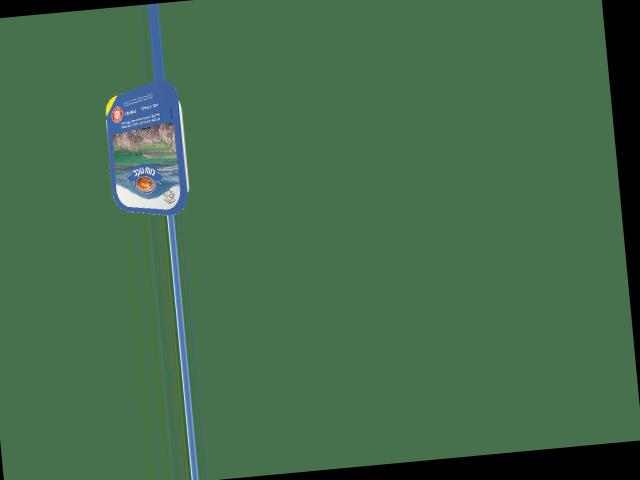cheese: (100, 92, 199, 210)
